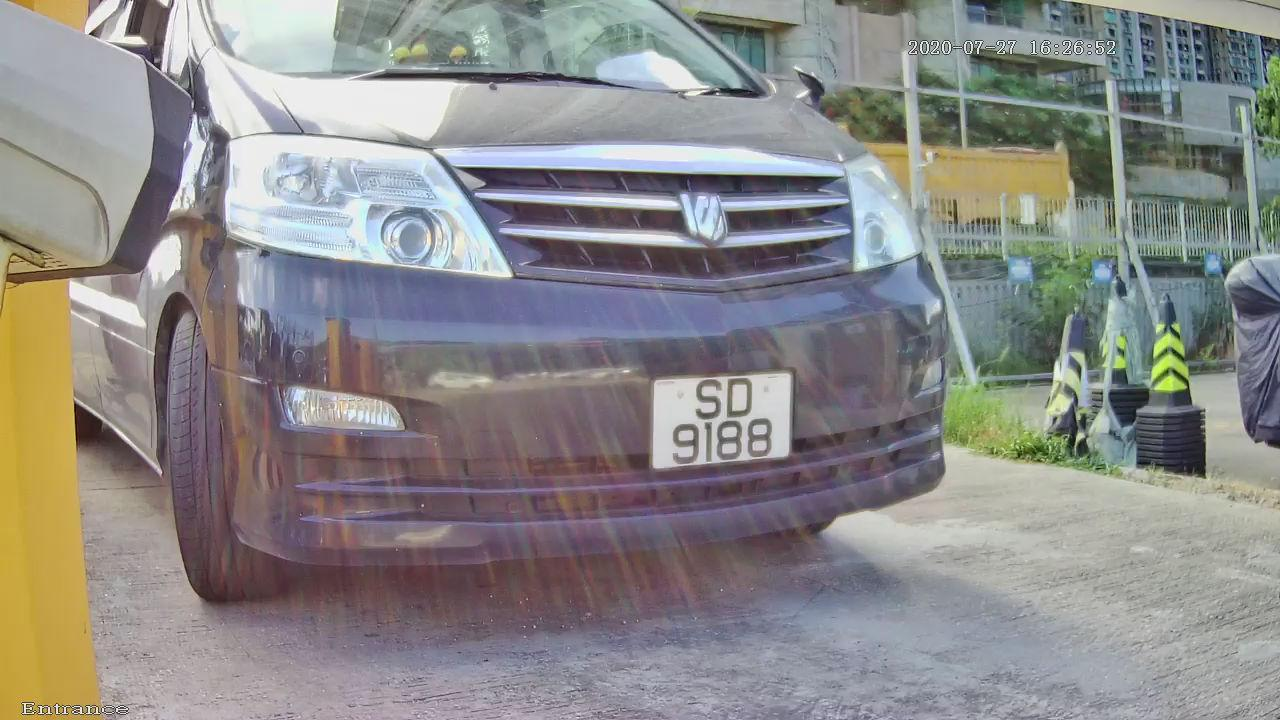privatecar: (92, 49, 978, 592)
